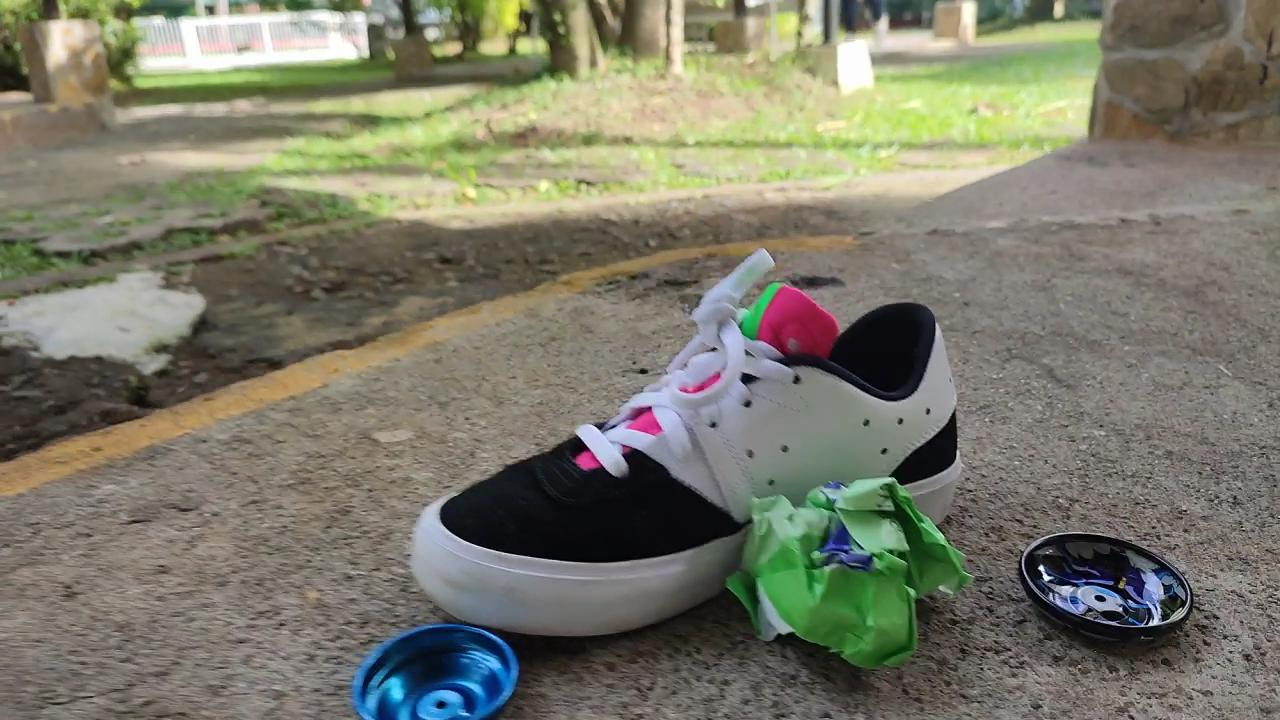Paper: (715, 457, 978, 685)
